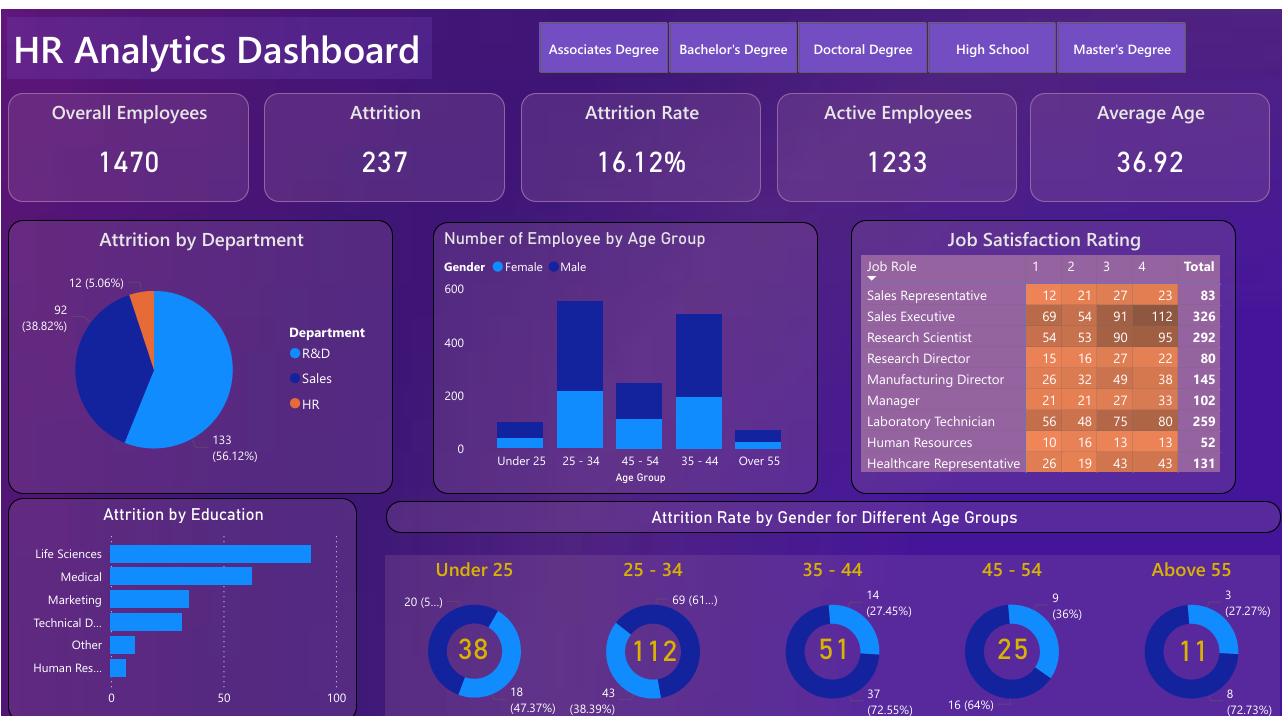

Layout of this report page (visuals, bound fields, positions):
{"tool":"powerbi","page":{"name":"Page 1","canvas":[1280,720],"ordinal":0},"visuals":[{"type":"card","title":"Overall Employees","fields":{"Values":["Sum(HR data.Employee Count)"]},"box":[6.4,82.7,240.2,109.8],"z":0},{"type":"card","title":"Attrition","fields":{"Values":["Sum(HR data.Attrition Count)"]},"box":[262.5,82.7,240.2,109.8],"z":1000},{"type":"card","title":"Attrition Rate","fields":{"Values":["HR data.Attrition_Rate"]},"box":[518.5,82.7,240.2,109.8],"z":2000},{"type":"card","title":"Active Employees","fields":{"Values":["HR data.Active_Employees"]},"box":[774.6,82.7,240.2,109.8],"z":3000},{"type":"card","title":"Average Age","fields":{"Values":["Avg(HR data.Age)"]},"box":[1027.5,82.7,240.2,109.8],"z":4000},{"type":"pieChart","title":"Attrition by Department","fields":{"Category":["HR data.Department"],"Y":["Sum(HR data.Attrition Count)"]},"box":[6.4,210,384.9,273.6],"z":5000},{"type":"columnChart","title":"Number of Employee by Age Group","fields":{"Category":["HR data.CF_age band"],"Y":["Sum(HR data.Employee Count)"],"Series":["HR data.Gender"]},"box":[431.1,211.6,384.9,272],"z":6000},{"type":"pivotTable","title":"Job Satisfaction Rating","fields":{"Rows":["HR data.Job Role"],"Columns":["HR data.Job Satisfaction"],"Values":["Sum(HR data.Employee Count)"]},"box":[849.4,210,384.9,273.6],"z":7000},{"type":"barChart","title":"Attrition by Education","fields":{"Category":["HR data.Education Field"],"Y":["Sum(HR data.Attrition Count)"]},"box":[5.7,487.6,349.6,224.9],"z":8000},{"type":"donutChart","title":"Under 25","fields":{"Category":["HR data.Gender"],"Y":["Sum(HR data.Attrition Count)"],"Series":["HR data.CF_age band"]},"box":[383.6,546.1,177.6,164.4],"z":9000},{"type":"textbox","title":"Attrition Rate by Gender for Different Age Groups","box":[383.6,491.3,895.8,32.1],"z":10000},{"type":"donutChart","title":"25 - 34","fields":{"Category":["HR data.Gender"],"Y":["Sum(HR data.Attrition Count)"],"Series":["HR data.CF_age band"]},"box":[561.3,546.1,179.5,166.3],"z":11000},{"type":"donutChart","title":"35 - 44","fields":{"Category":["HR data.Gender"],"Y":["Sum(HR data.Attrition Count)"],"Series":["HR data.CF_age band"]},"box":[740.8,546.1,179.5,166.3],"z":12000},{"type":"donutChart","title":"45 - 54","fields":{"Category":["HR data.Gender"],"Y":["Sum(HR data.Attrition Count)"],"Series":["HR data.CF_age band"]},"box":[920.3,546.1,179.5,166.3],"z":13000},{"type":"donutChart","title":"Above 55","fields":{"Category":["HR data.Gender"],"Y":["Sum(HR data.Attrition Count)"],"Series":["HR data.CF_age band"]},"box":[1099.9,546.1,179.5,166.3],"z":14000},{"type":"card","fields":{"Values":["Sum(HR data.Attrition Count)"]},"box":[436.5,612.3,68,51],"z":15000},{"type":"card","fields":{"Values":["Sum(HR data.Attrition Count)"]},"box":[618,614.2,68,51],"z":16000},{"type":"card","fields":{"Values":["Sum(HR data.Attrition Count)"]},"box":[797.5,612.3,68,51],"z":17000},{"type":"card","fields":{"Values":["Sum(HR data.Attrition Count)"]},"box":[977,612.3,68,51],"z":18000},{"type":"card","fields":{"Values":["Sum(HR data.Attrition Count)"]},"box":[1156.5,614.2,68,51],"z":19000},{"type":"textbox","title":"HR Analytics Dashboard","box":[5.7,7.6,425.2,62.4],"z":20000},{"type":"slicer","fields":{"Values":["HR data.Education"]},"box":[512.1,5.7,695.4,64.3],"z":21000}]}

Visuals, with their boxes in screenshot pixels (x1, y1, x2, y2), scaled from the page's 1280x720 canvas onto the 1287x716 screenshot:
"Overall Employees" card: box(6, 82, 248, 191)
"Attrition" card: box(264, 82, 505, 191)
"Attrition Rate" card: box(521, 82, 763, 191)
"Active Employees" card: box(779, 82, 1020, 191)
"Average Age" card: box(1033, 82, 1275, 191)
"Attrition by Department" pieChart: box(6, 209, 393, 481)
"Number of Employee by Age Group" columnChart: box(433, 210, 820, 481)
"Job Satisfaction Rating" pivotTable: box(854, 209, 1241, 481)
"Attrition by Education" barChart: box(6, 485, 357, 709)
"Under 25" donutChart: box(386, 543, 564, 707)
"Attrition Rate by Gender for Different Age Groups" textbox: box(386, 489, 1286, 520)
"25 - 34" donutChart: box(564, 543, 745, 708)
"35 - 44" donutChart: box(745, 543, 925, 708)
"45 - 54" donutChart: box(925, 543, 1106, 708)
"Above 55" donutChart: box(1106, 543, 1286, 708)
card - Sum(HR data.Attrition Count): box(439, 609, 507, 660)
card - Sum(HR data.Attrition Count): box(621, 611, 690, 662)
card - Sum(HR data.Attrition Count): box(802, 609, 870, 660)
card - Sum(HR data.Attrition Count): box(982, 609, 1051, 660)
card - Sum(HR data.Attrition Count): box(1163, 611, 1231, 662)
"HR Analytics Dashboard" textbox: box(6, 8, 433, 70)
slicer - HR data.Education: box(515, 6, 1214, 70)
